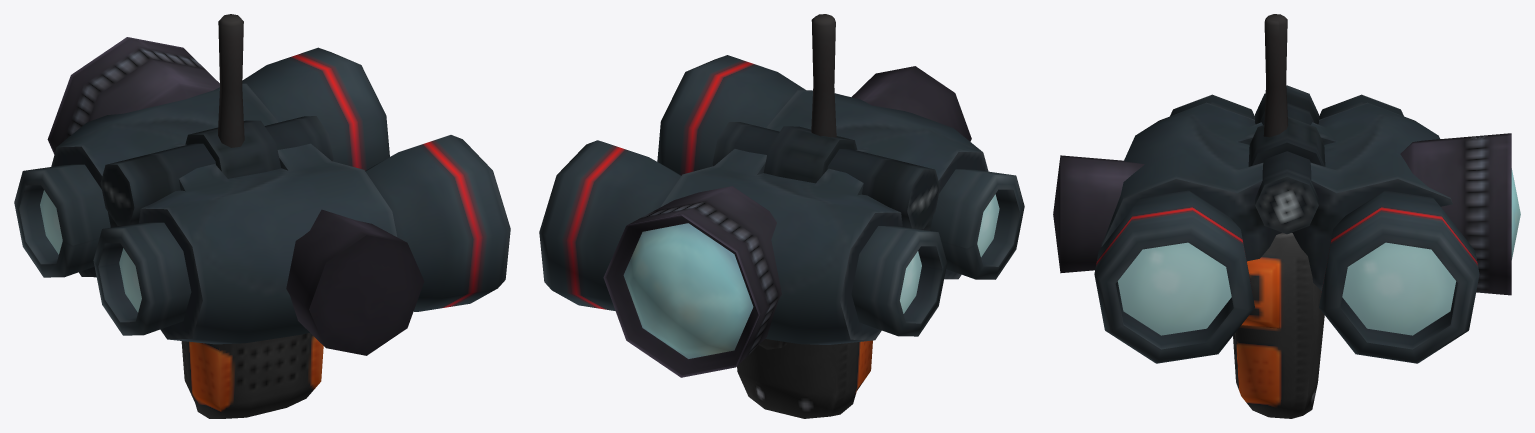
File: portable_electronics.glb
3 renders of one model, left to right at view 1: azimuth 30°, elevation 25°; view 2: azimuth 150°, elevation 25°; view 3: azimuth 270°, elevation 25°, orthographic. The views are drawn at different scales.
Visible parts, largest first — view 1: Binoculars, SolarTorch, WalkieTalkie; view 2: Binoculars, SolarTorch, WalkieTalkie; view 3: Binoculars, SolarTorch, WalkieTalkie.
Part boxes in pixels (box(x1,y1,x2,y2)): Binoculars: box(14, 47, 510, 344); SolarTorch: box(47, 37, 424, 355); WalkieTalkie: box(181, 14, 323, 418); Binoculars: box(539, 55, 1024, 344); SolarTorch: box(603, 66, 971, 377); WalkieTalkie: box(737, 14, 872, 418); Binoculars: box(1094, 85, 1479, 363); SolarTorch: box(1053, 133, 1520, 295); WalkieTalkie: box(1233, 14, 1324, 418).
Size of the model in its own units: 0.2619 by 0.3 by 0.34.
3 materials, 3 textured.
